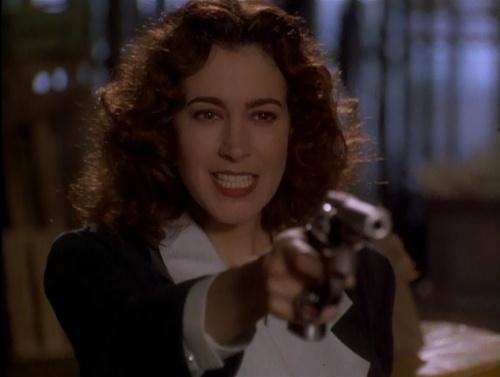Gun: (288, 191, 392, 338)
